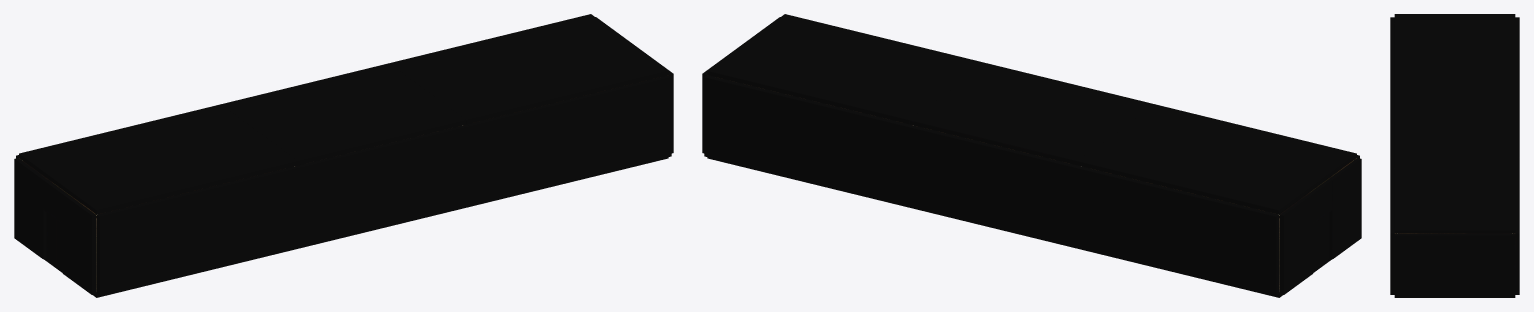
File: obsidian-desktop.glb
3 renders of one model, left to right at view 1: azimuth 30°, elevation 25°; view 2: azimuth 150°, elevation 25°; view 3: azimuth 270°, elevation 25°, orthographic. The views are drawn at different scales.
Visible parts, largest first — view 1: R1_architecture_baked, R3_architecture_baked, R2_architecture_baked, R1_floor_baked; view 2: R1_architecture_baked, R3_architecture_baked, R2_architecture_baked, R1_floor_baked; view 3: R3_architecture_baked, R1_architecture_baked, R2_architecture_baked, R3_floor_baked.
Part boxes in pixels (x1,y1,x2,y2): R1_architecture_baked: [14, 104, 301, 295]; R3_architecture_baked: [389, 14, 673, 205]; R2_architecture_baked: [221, 63, 469, 246]; R1_floor_baked: [44, 218, 298, 297]; R1_architecture_baked: [1074, 104, 1361, 295]; R3_architecture_baked: [702, 14, 986, 205]; R2_architecture_baked: [906, 63, 1154, 246]; R1_floor_baked: [1077, 218, 1331, 297]; R3_architecture_baked: [1390, 154, 1519, 296]; R1_architecture_baked: [1390, 14, 1519, 93]; R2_architecture_baked: [1390, 90, 1519, 157]; R3_floor_baked: [1394, 296, 1515, 297].
Size of the model in its own units: 34.58 by 4.97 by 8.6.
22 materials, 20 textured.
